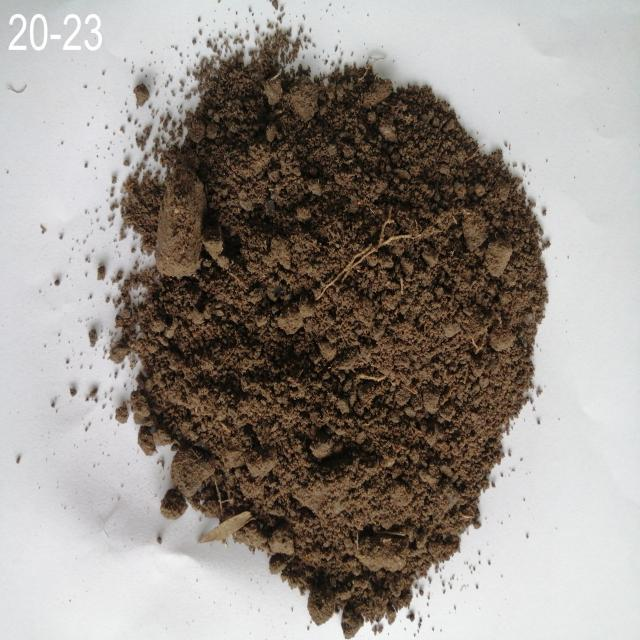soil: (198, 131, 454, 510)
